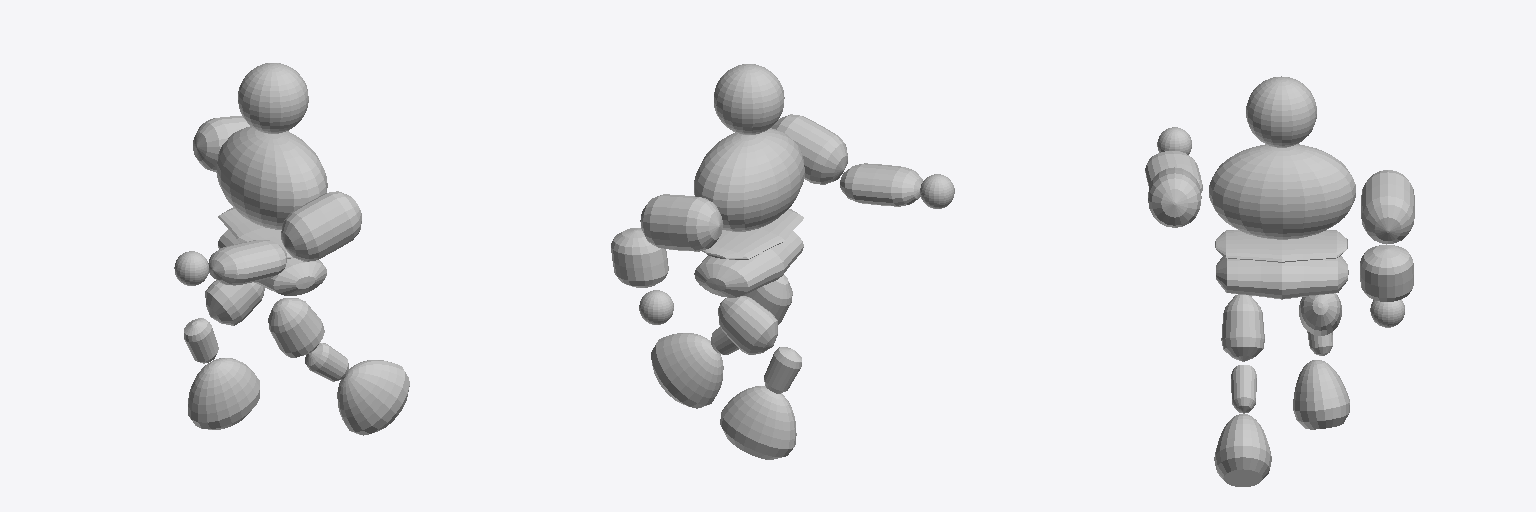
The model's file is PTwo6.obj.
3 views of the same model, side by side, from view 1: azimuth 30°, elevation 25°; view 2: azimuth 150°, elevation 25°; view 3: azimuth 270°, elevation 25° (orthographic).
Visible parts, largest first — view 1: polySurface1; view 2: polySurface1; view 3: polySurface1.
Part boxes in pixels (x1,y1,x2,y2): polySurface1: (174,63,409,435); polySurface1: (611,64,954,459); polySurface1: (1145,76,1414,486).
Bounding box in the file's own units: 4.57 × 6.12 × 4.05.